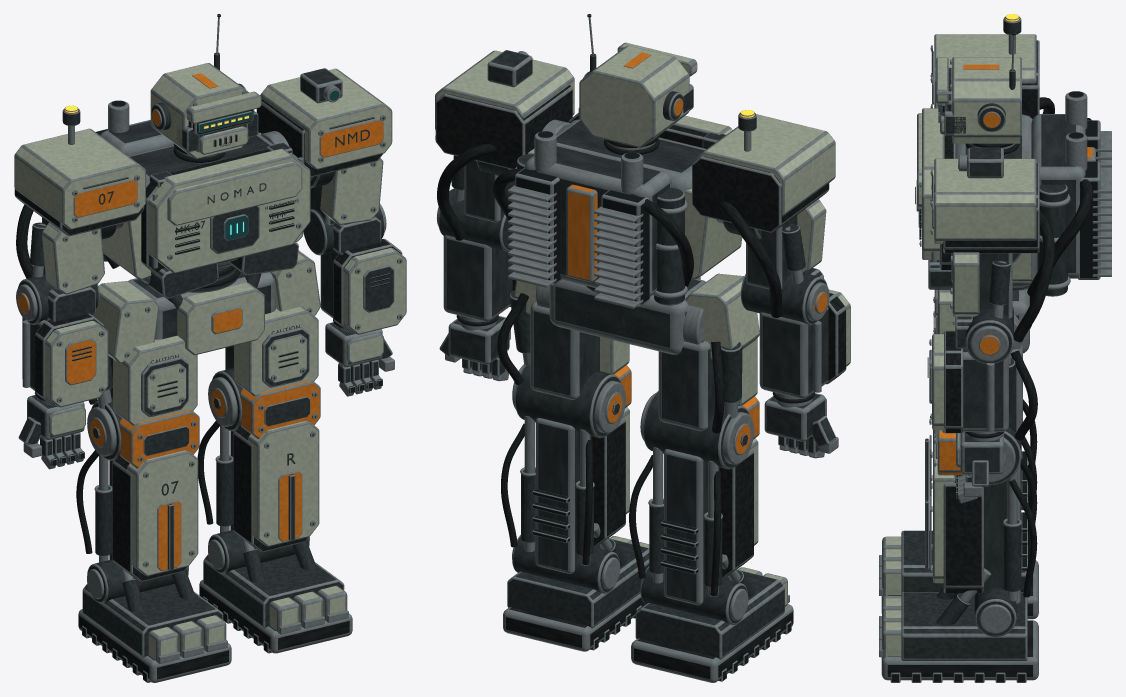
Rendered from nomad-mk07.glb.
3 views of the same model, side by side, from view 1: azimuth 30°, elevation 25°; view 2: azimuth 150°, elevation 25°; view 3: azimuth 270°, elevation 25° (orthographic). The views are drawn at different scales.
Visible parts, largest first — view 1: Main breastplate, Angular shoulder shell, Shin chamfered armor.001, Shin chamfered armor, Angular shoulder shell.001, Upper chest overlapping plate, Cast armored foot.001, Cast armored foot, Pelvis apron, Helmet central shell, Upper leg armor, Floating hip armor (+66 smaller); view 2: Helmet central shell, Angular shoulder shell, Pauldron seal.001, Pelvis chassis, Cast armored foot, Shin internal spine.001, Shin internal spine, Pauldron seal, Cast armored foot.001, Power module main, Forearm exoskeleton.001, Forearm exoskeleton (+56 smaller); view 3: Angular shoulder shell.001, Cast armored foot.001, Helmet central shell, Shin multilayer armor gasket.001, Power module main, Carbon tread sole.001, Angular shoulder shell, Forearm exoskeleton.001, Shin internal spine.001, Main breastplate, Cast armored foot, Forearm isolation pad.001 (+47 smaller).
Part boxes in pixels (x1=…): Main breastplate: x1=148, y1=148, x2=310, y2=273; Angular shoulder shell: x1=14, y1=128, x2=145, y2=229; Shin chamfered armor.001: x1=248, y1=420, x2=319, y2=546; Shin chamfered armor: x1=127, y1=450, x2=198, y2=576; Angular shoulder shell.001: x1=260, y1=68, x2=392, y2=169; Upper chest overlapping plate: x1=167, y1=161, x2=302, y2=225; Cast armored foot.001: x1=203, y1=554, x2=344, y2=628; Cast armored foot: x1=82, y1=584, x2=223, y2=657; Pelvis apron: x1=177, y1=282, x2=264, y2=355; Helmet central shell: x1=150, y1=63, x2=254, y2=159; Upper leg armor: x1=113, y1=335, x2=197, y2=425; Floating hip armor: x1=93, y1=281, x2=158, y2=363; Helmet central shell: x1=579, y1=45, x2=689, y2=147; Angular shoulder shell: x1=696, y1=114, x2=835, y2=216; Pauldron seal.001: x1=435, y1=84, x2=572, y2=169; Pelvis chassis: x1=549, y1=279, x2=705, y2=354; Cast armored foot: x1=635, y1=569, x2=784, y2=659; Shin internal spine.001: x1=535, y1=418, x2=591, y2=573; Shin internal spine: x1=664, y1=449, x2=719, y2=605; Pauldron seal: x1=692, y1=156, x2=829, y2=232; Cast armored foot.001: x1=507, y1=538, x2=649, y2=628; Power module main: x1=524, y1=145, x2=671, y2=296; Forearm exoskeleton.001: x1=443, y1=235, x2=512, y2=321; Forearm exoskeleton: x1=759, y1=307, x2=828, y2=398; Angular shoulder shell.001: x1=934, y1=158, x2=1036, y2=243; Cast armored foot.001: x1=901, y1=592, x2=1027, y2=660; Helmet central shell: x1=952, y1=57, x2=1021, y2=143; Shin multilayer armor gasket.001: x1=943, y1=475, x2=983, y2=592; Power module main: x1=1031, y1=114, x2=1085, y2=278; Carbon tread sole.001: x1=881, y1=620, x2=1038, y2=680; Angular shoulder shell: x1=934, y1=34, x2=1036, y2=108; Forearm exoskeleton.001: x1=963, y1=350, x2=1008, y2=431; Shin internal spine.001: x1=978, y1=463, x2=1020, y2=604; Main breastplate: x1=922, y1=108, x2=944, y2=259; Cast armored foot: x1=901, y1=530, x2=1026, y2=593; Forearm isolation pad.001: x1=944, y1=330, x2=963, y2=433.
Bounding box in the file's own units: 5.23 × 8.06 × 2.77.
Materials: 10 (5 with a texture image).
